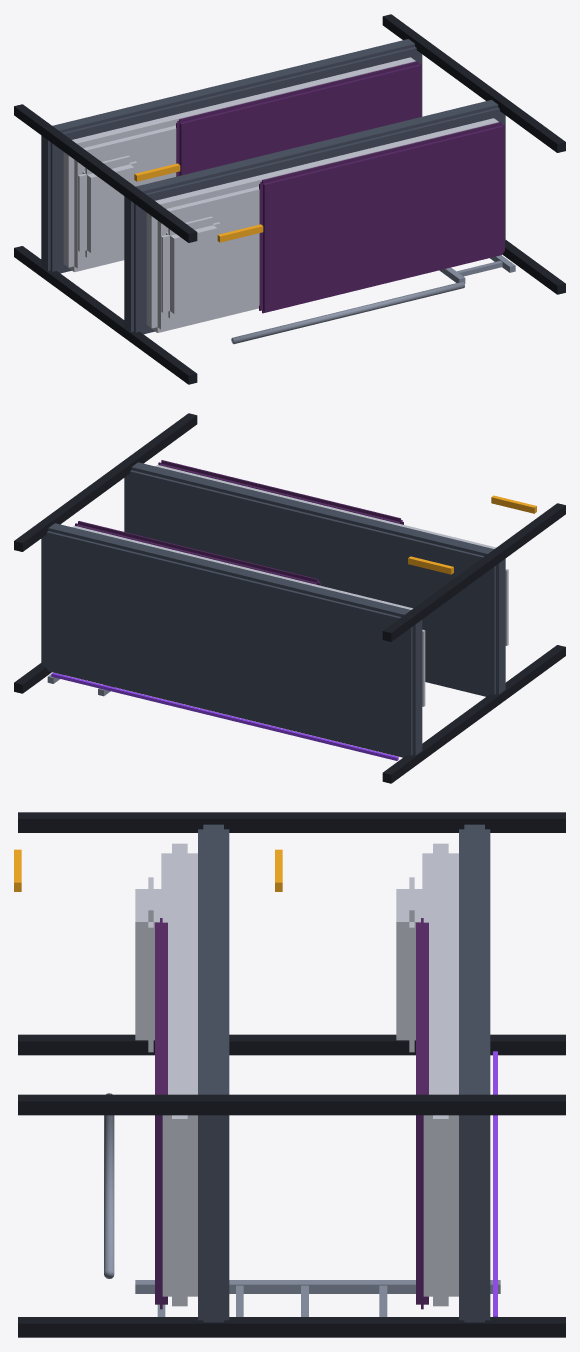
Rendered from shooter-bunk.glb.
3 views of the same model, one above another, from view 1: azimuth 30°, elevation 25°; view 2: azimuth 150°, elevation 25°; view 3: azimuth 270°, elevation 25° (orthographic). The views are drawn at different scales.
Visible parts, largest first — view 1: Model Mesh; view 2: Model Mesh; view 3: Model Mesh.
Boxes of the visible parts, box(x1,y1,x2,y2) form: Model Mesh: box(14, 14, 565, 384); Model Mesh: box(14, 413, 565, 783); Model Mesh: box(14, 812, 565, 1337).
Size of the model in its own units: 2.62 by 1.02 by 2.12.
Materials: 2 (2 with a texture image).
